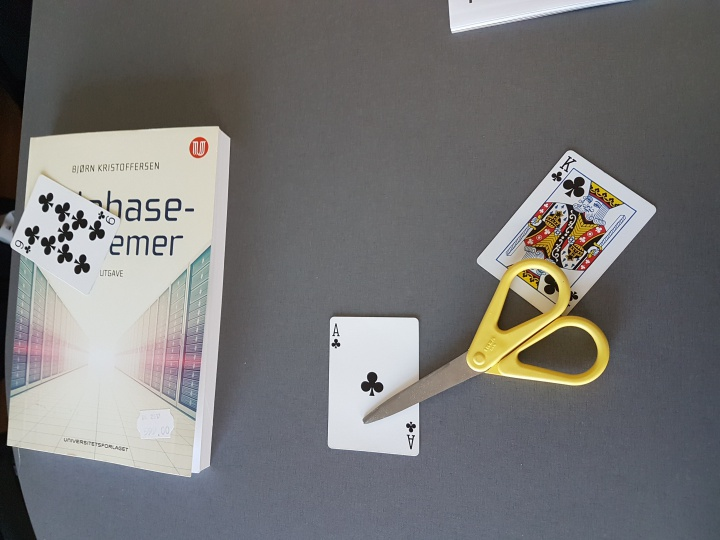9: (12, 170, 126, 291)
ace: (324, 311, 424, 461)
king: (478, 143, 659, 326)
